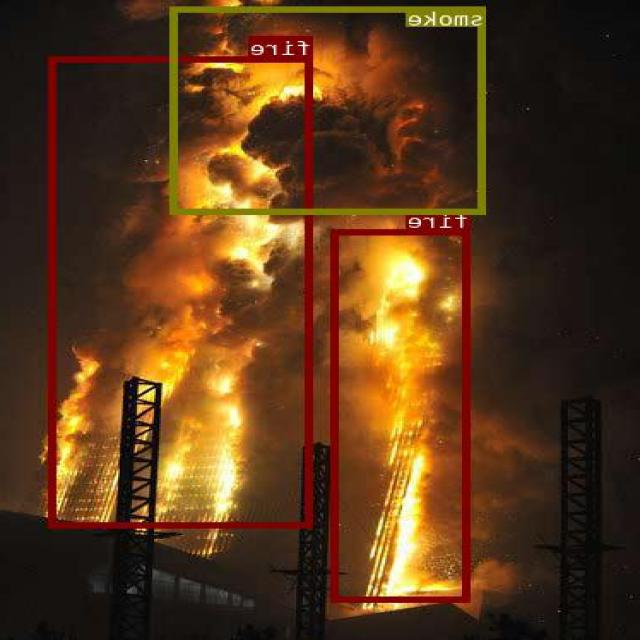fire: (50, 55, 313, 527), (333, 228, 471, 600)
smoke: (172, 5, 488, 214)
